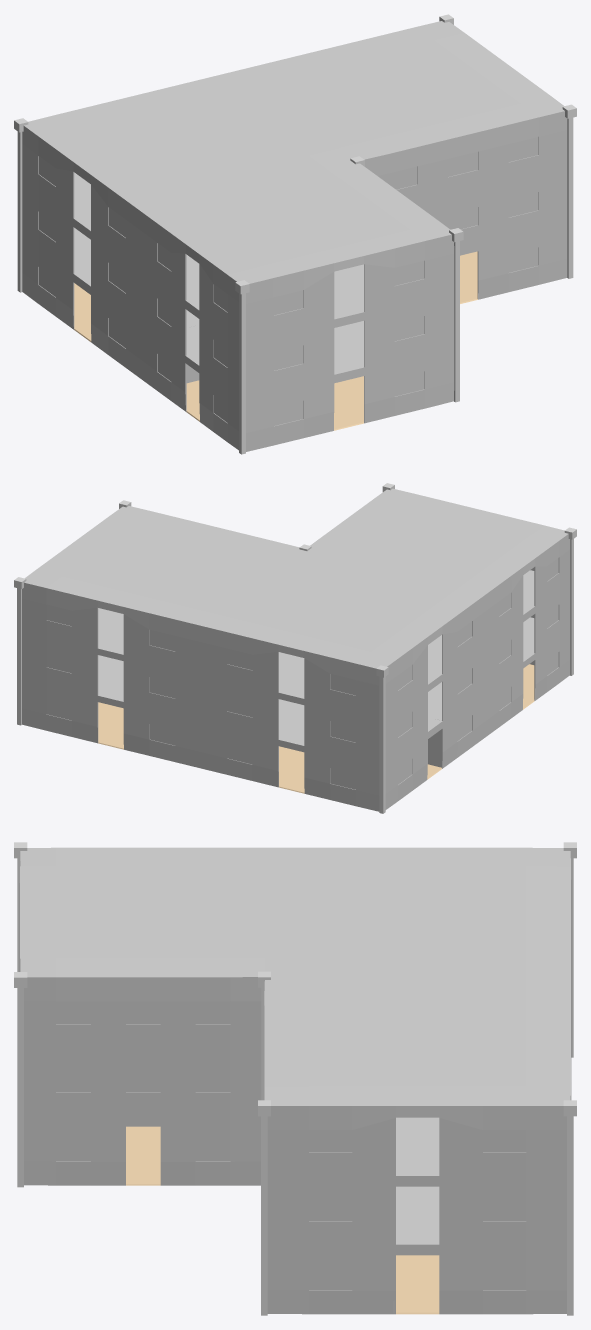
Rendered from Mod Building L 01.fbx.
3 views of the same model, one above another, from view 1: azimuth 30°, elevation 25°; view 2: azimuth 150°, elevation 25°; view 3: azimuth 270°, elevation 25° (orthographic). The views are drawn at different scales.
Parts seen in each view (by area): view 1: School Building L Windowed, Windows, Building Edges, School Floor 2, School Floor 1; view 2: School Building L Windowed, Windows, School Floor 1, School Floor 2, Building Edges, L Wall Long Doorway; view 3: School Building L Windowed, Windows, Building Edges, School Floor 2, School Floor 1.
Boxes of the visible parts, bbox=[...] form: School Building L Windowed: bbox=[22, 21, 567, 451]; Windows: bbox=[39, 137, 538, 425]; Building Edges: bbox=[14, 14, 576, 454]; School Floor 2: bbox=[74, 172, 363, 318]; School Floor 1: bbox=[74, 228, 363, 373]; School Building L Windowed: bbox=[22, 488, 569, 811]; Windows: bbox=[46, 558, 558, 789]; School Floor 1: bbox=[98, 617, 534, 745]; School Floor 2: bbox=[98, 570, 534, 698]; Building Edges: bbox=[14, 483, 576, 813]; L Wall Long Doorway: bbox=[428, 717, 441, 767]; School Building L Windowed: bbox=[19, 847, 571, 1314]; Windows: bbox=[56, 1001, 526, 1290]; Building Edges: bbox=[14, 842, 576, 1315]; School Floor 2: bbox=[396, 1117, 439, 1175]; School Floor 1: bbox=[396, 1186, 439, 1243].
Bounding box in the file's own units: 2048 × 767 × 1849.
